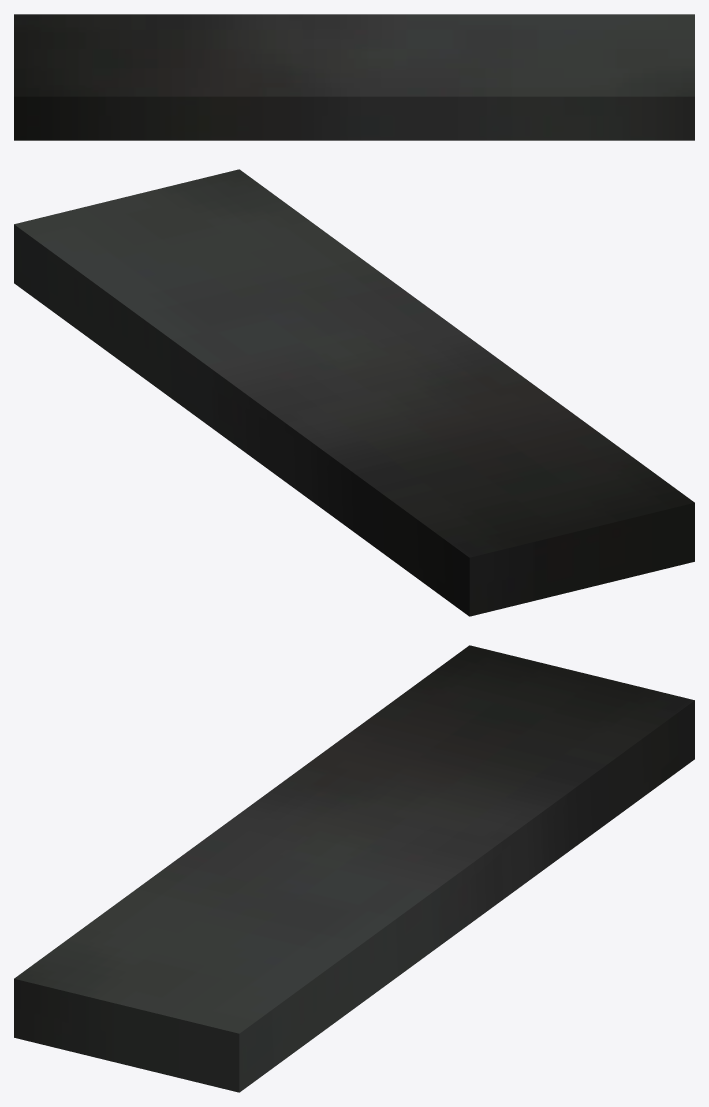
Rendered from frame__gauge_tick_0.glb.
The picture shows the model from 3 angles, top to bottom: view 1: azimuth 30°, elevation 25°; view 2: azimuth 150°, elevation 25°; view 3: azimuth 270°, elevation 25°; orthographic projection. The views are drawn at different scales.
Parts seen in each view (by area): view 1: geometry_0; view 2: geometry_0; view 3: geometry_0.
Boxes of the visible parts, x1,y1,x2,y2 form: geometry_0: (14, 14, 694, 140); geometry_0: (14, 169, 694, 616); geometry_0: (14, 645, 694, 1092).
Bounding box in the file's own units: 0.0141 × 0.001 × 0.0105.
1 material, 1 textured.
